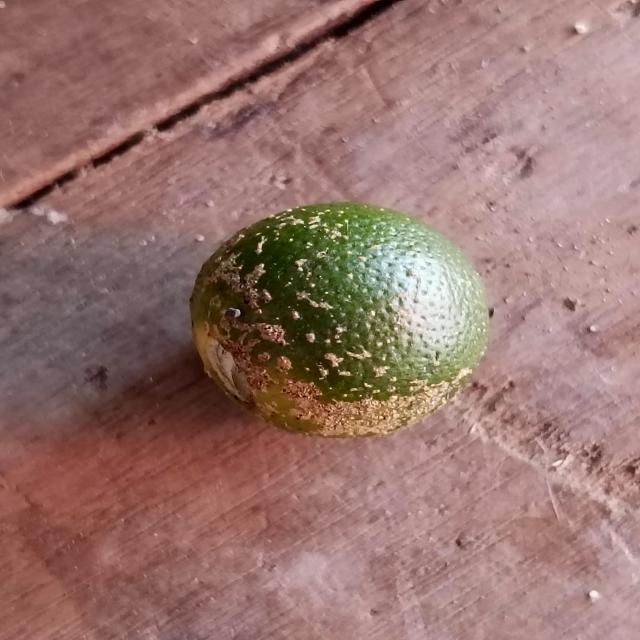scab: (200, 206, 490, 438)
